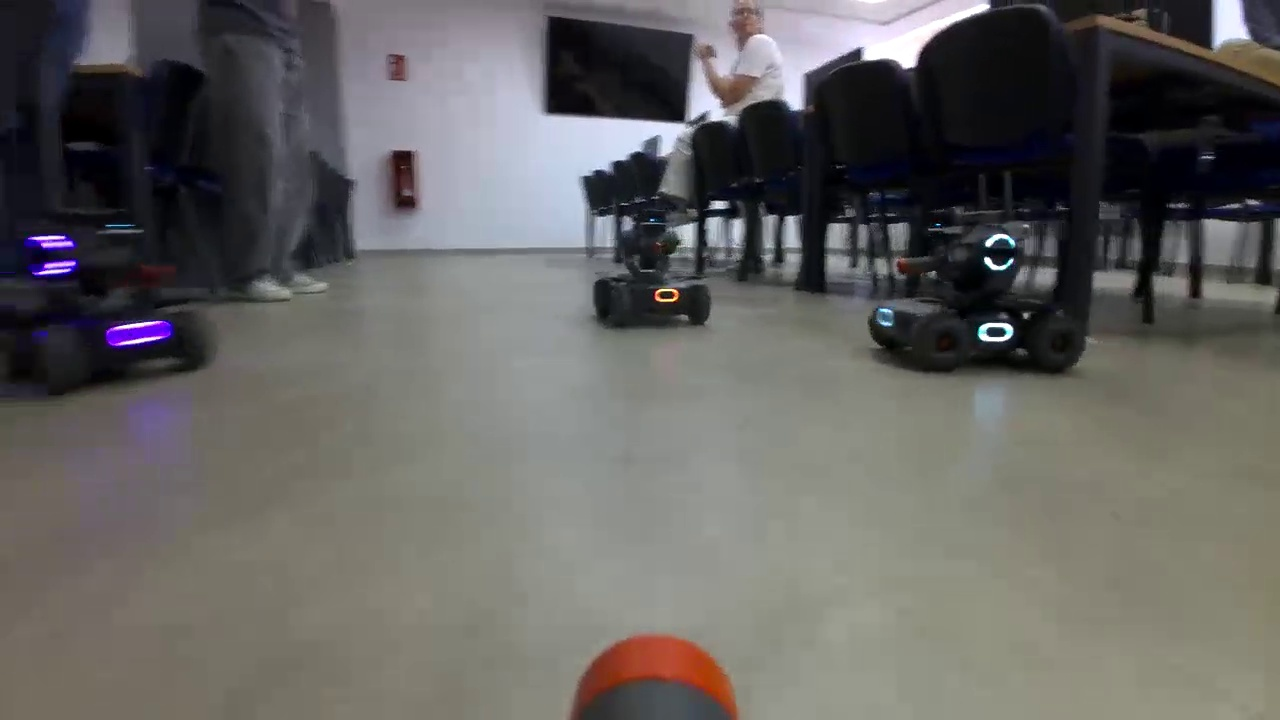robot: (1, 225, 215, 395), (868, 228, 1085, 372), (595, 220, 712, 328)
